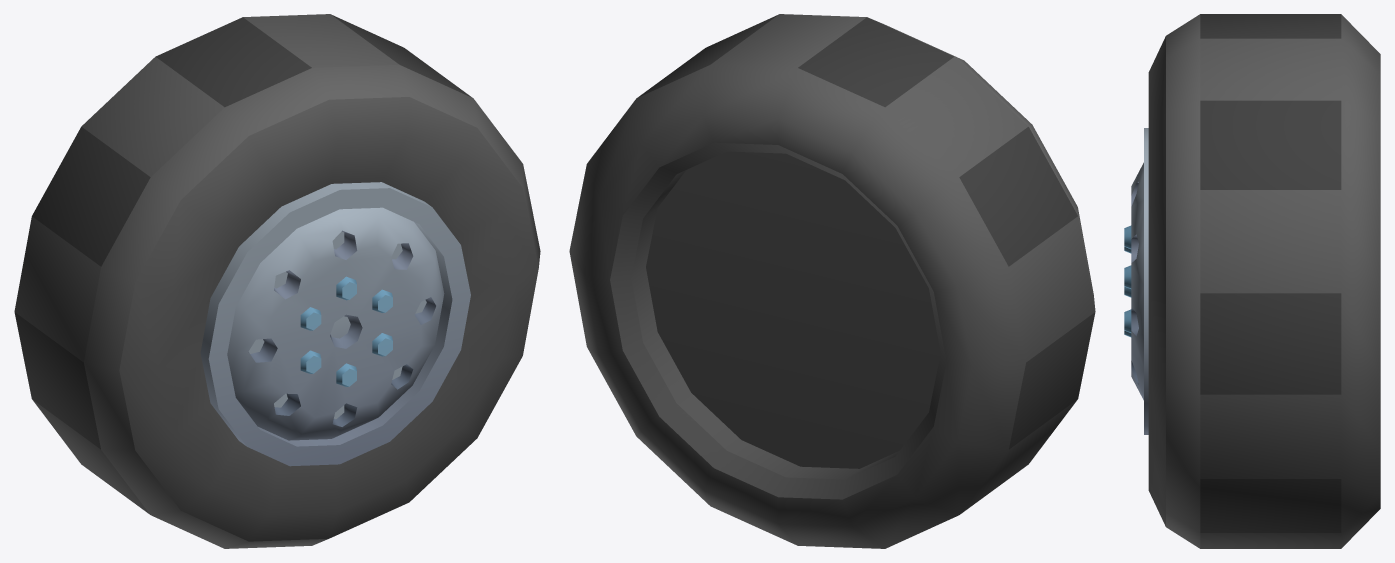
Rendered from wheel_01.fbx.
3 views of the same model, side by side, from view 1: azimuth 30°, elevation 25°; view 2: azimuth 150°, elevation 25°; view 3: azimuth 270°, elevation 25° (orthographic).
Visible parts, largest first — view 1: wheel_01; view 2: wheel_01; view 3: wheel_01.
Part boxes in pixels (<box>): wheel_01: <box>14,14,540,548</box>; wheel_01: <box>569,14,1095,548</box>; wheel_01: <box>1124,14,1380,548</box>.
Size of the model in its own units: 106 by 106 by 50.9.
